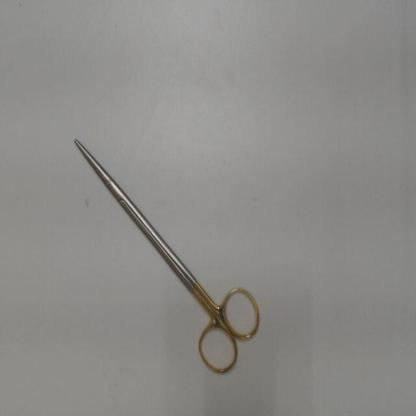7 Metzenbaum Scissors: (69, 132, 263, 380)
